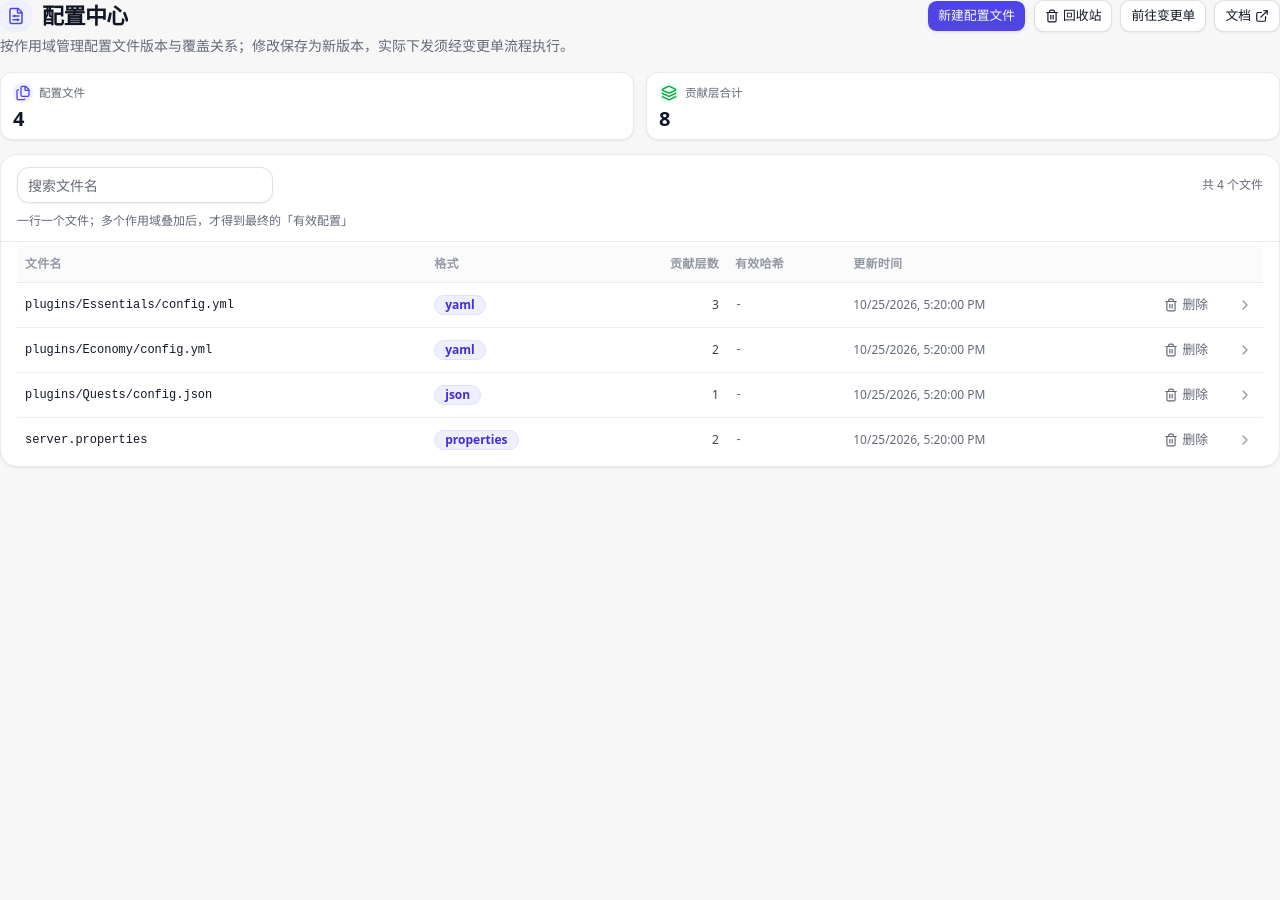
Test: /configs 编辑保存 › 基线过期保存返回 409 并内联冲突提示
Click the text "plugins/Essentials/config.yml" at (640, 304), box [17,282,1263,327]
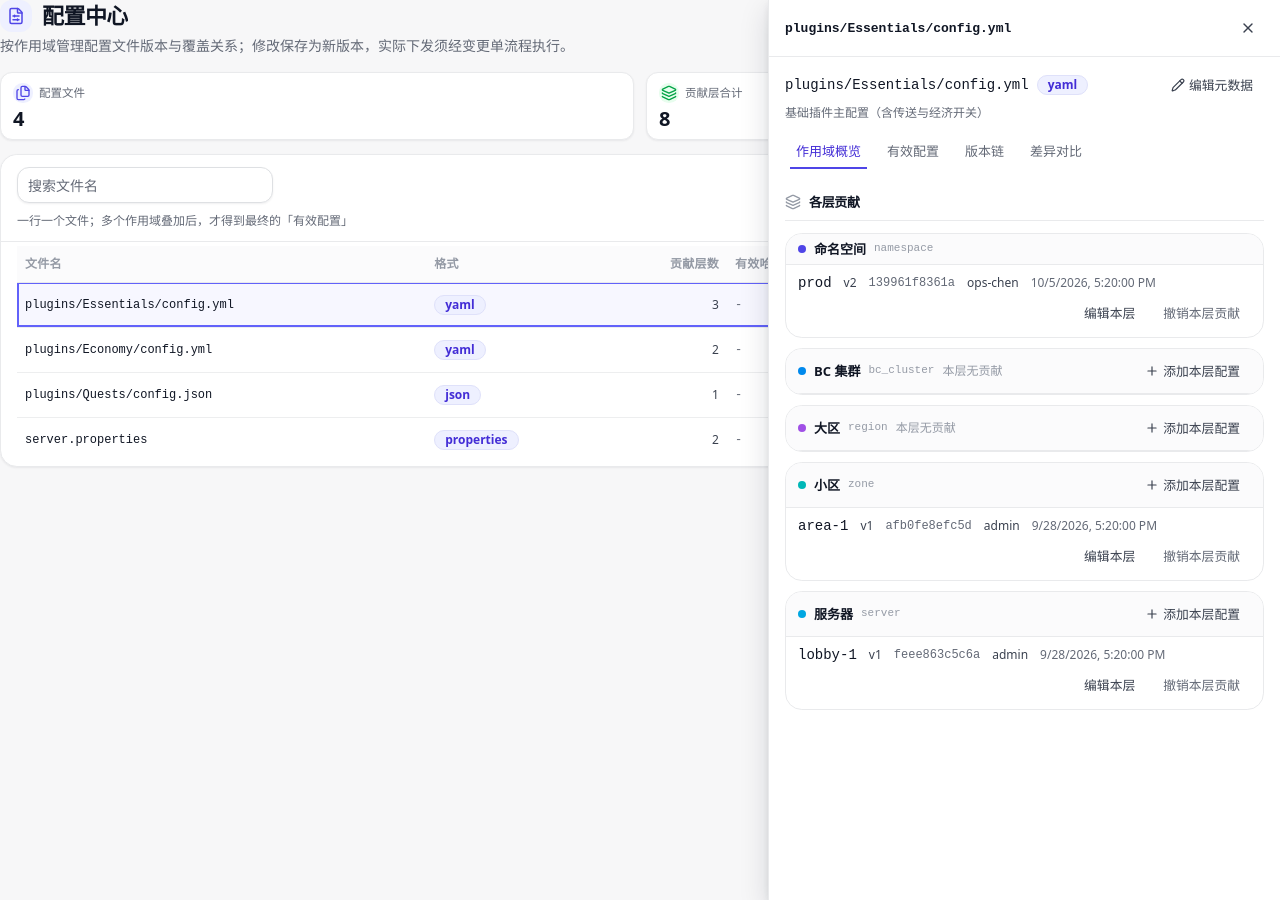
Now the tab "作用域概览" is shown, box [785,133,872,169]
Click the button "编辑本层" below "prod" at (1110, 313), box [1073,297,1146,329]
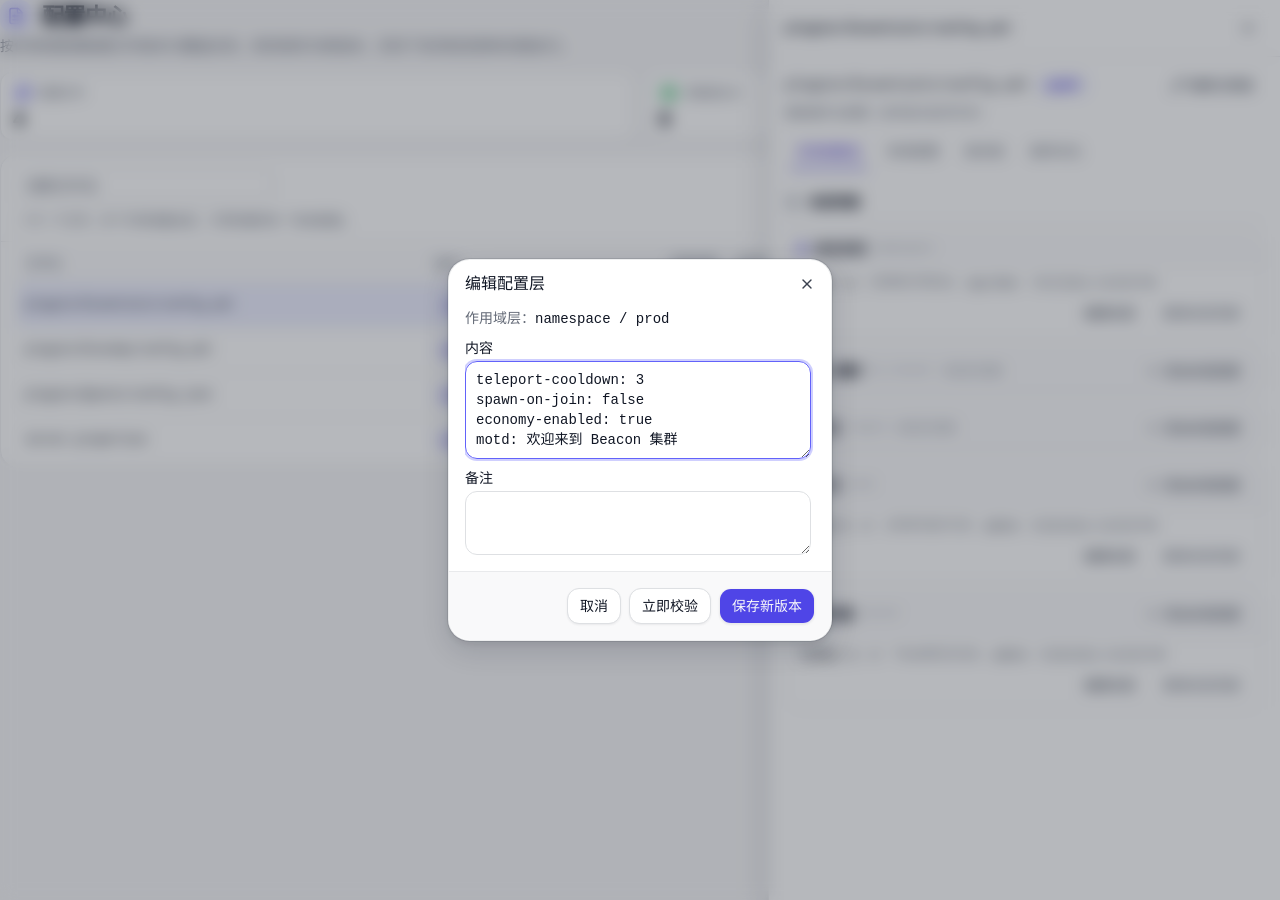
Now the text box labelled "内容" is shown, box [465,361,811,459]
Click the button "保存新版本" at (767, 606), box [719,588,815,624]
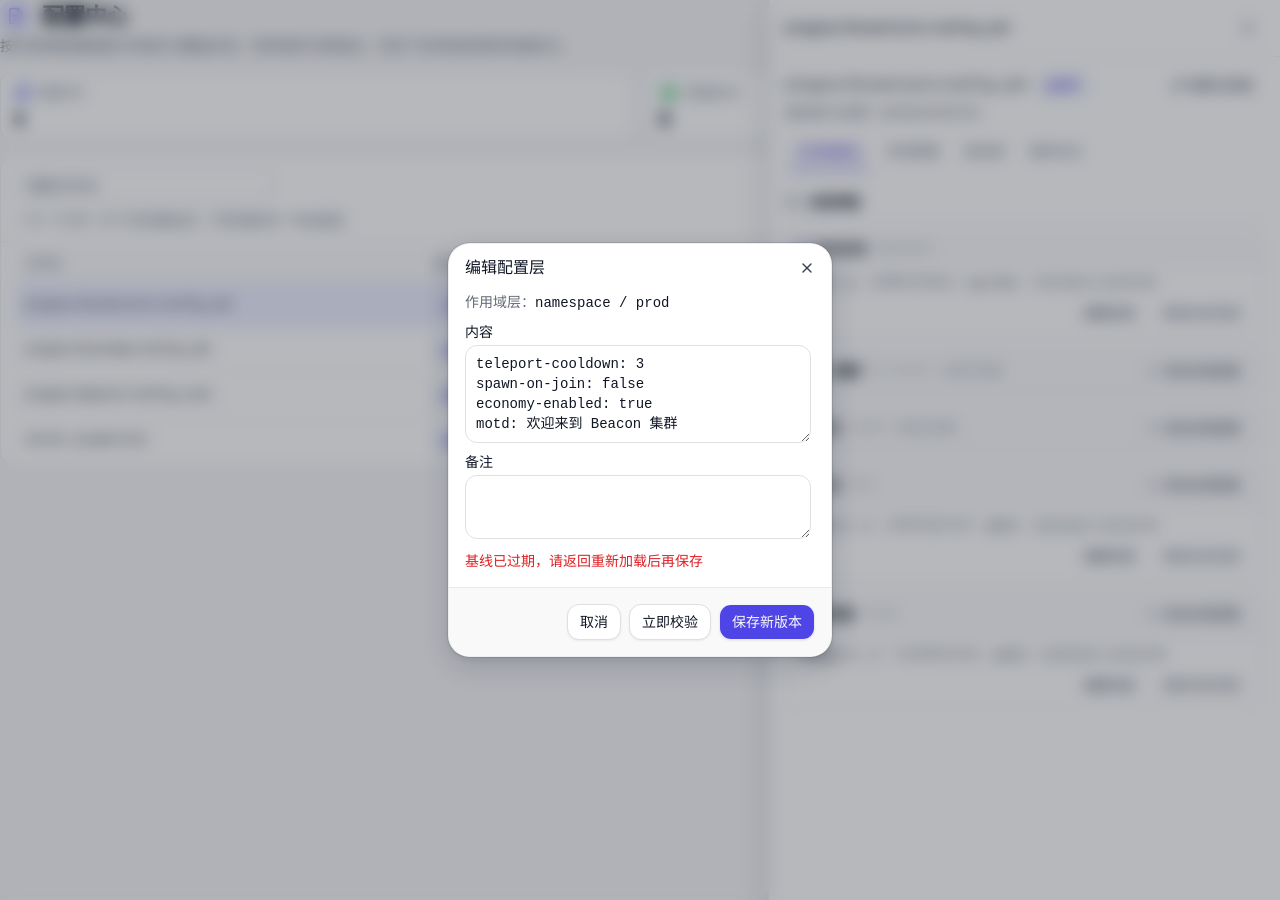
Now the text "基线已过期，请返回重新加载后再保存" is shown, box [465,551,703,570]
